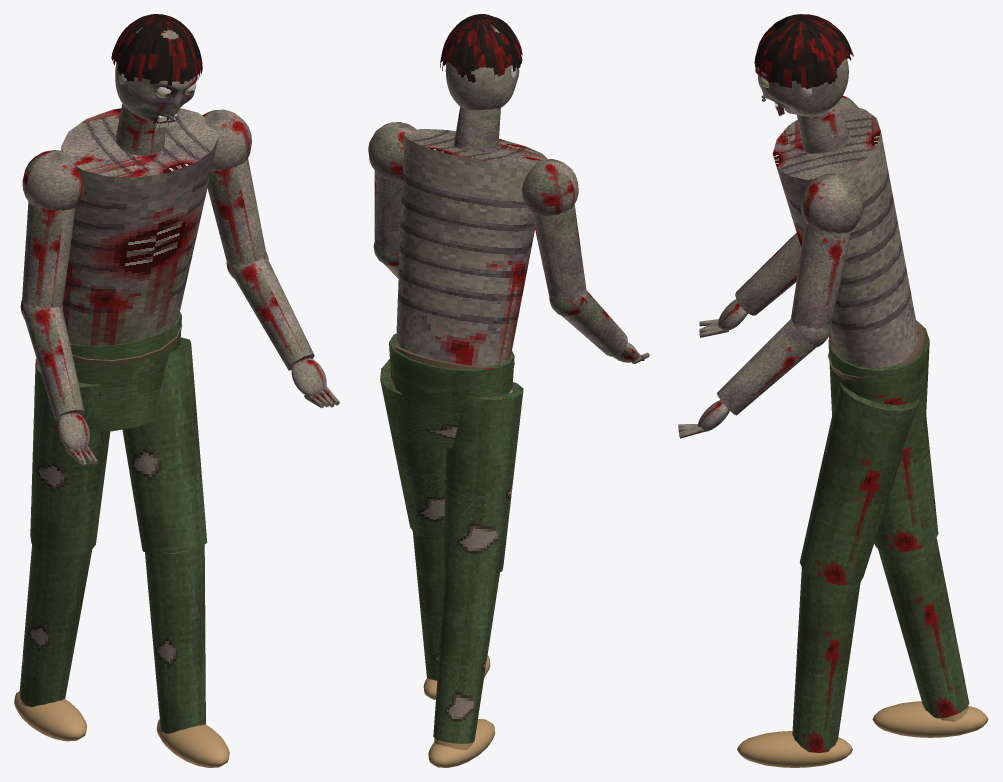
Rendered from Zombie_141.glb.
The picture shows the model from 3 angles, left to right: view 1: azimuth 30°, elevation 25°; view 2: azimuth 150°, elevation 25°; view 3: azimuth 270°, elevation 25°; orthographic projection. The views are drawn at different scales.
Parts seen in each view (by area): view 1: Zombie_141, object 43, object 3, object 10, object 16, object 11, object 4; view 2: Zombie_141, object 43, object 16, object 3, object 2; view 3: Zombie_141, object 43, object 10, object 3, object 16, object 11, object 4.
Part boxes in pixels (<box>): Zombie_141: <box>14,104,266,767</box>; object 43: <box>111,14,202,85</box>; object 3: <box>25,307,84,421</box>; object 10: <box>233,258,314,370</box>; object 16: <box>115,26,197,123</box>; object 11: <box>291,358,326,396</box>; object 4: <box>58,413,90,451</box>; Zombie_141: <box>368,107,586,767</box>; object 43: <box>440,14,522,79</box>; object 16: <box>445,25,519,110</box>; object 3: <box>562,290,627,356</box>; object 2: <box>549,290,587,316</box>; Zombie_141: <box>737,95,988,767</box>; object 43: <box>754,14,853,86</box>; object 10: <box>716,319,816,415</box>; object 3: <box>735,233,801,315</box>; object 16: <box>755,59,848,116</box>; object 11: <box>697,400,729,431</box>; object 4: <box>718,299,747,330</box>.
Bounding box in the file's own units: 0.729 × 2.05 × 0.7804.
Materials: 16 (6 with a texture image).
